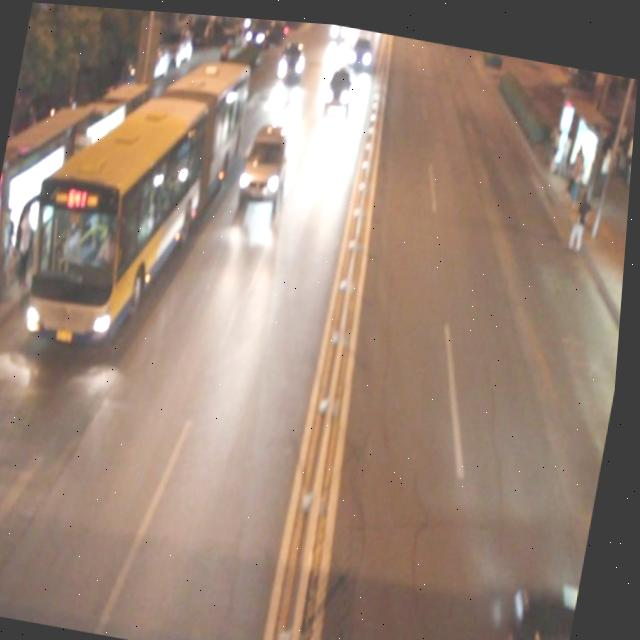car: (502, 557, 588, 640), (276, 30, 308, 78), (325, 61, 355, 106), (346, 26, 373, 63)
truck: (240, 111, 296, 199)
van: (16, 24, 249, 357)
